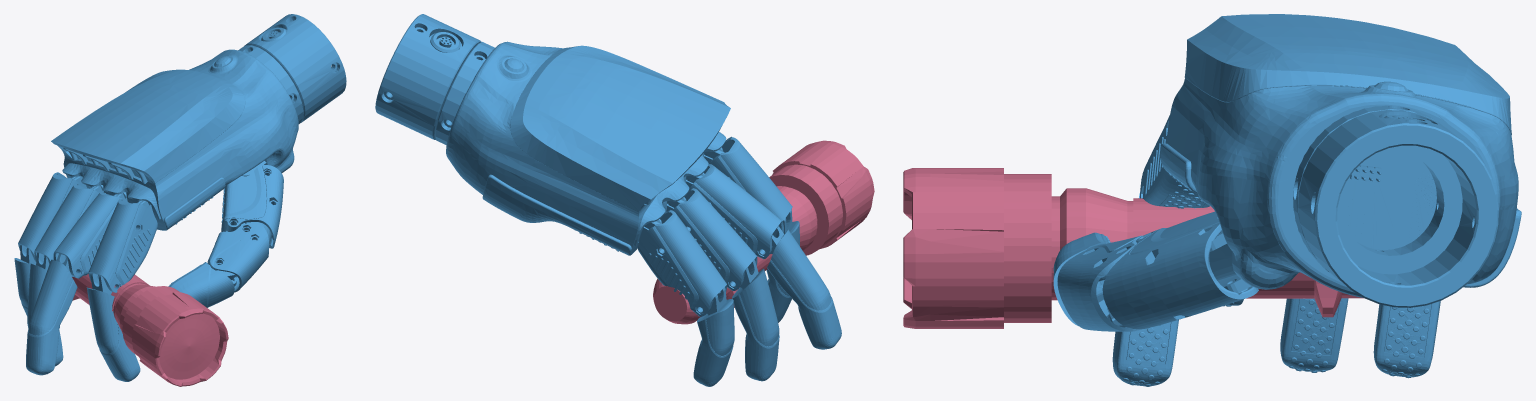
3 renders of one model, left to right at view 1: azimuth 30°, elevation 25°; view 2: azimuth 150°, elevation 25°; view 3: azimuth 270°, elevation 25°, orthographic. The views are drawn at different scales.
Visible parts, largest first — view 1: 6; view 2: 6; view 3: 6.
Part boxes in pixels (x1,y1,x2,y2): 6: (14,14,346,386); 6: (375,14,874,386); 6: (903,14,1521,386).
Bounding box in the file's own units: 0.2095 × 0.1516 × 0.166.
